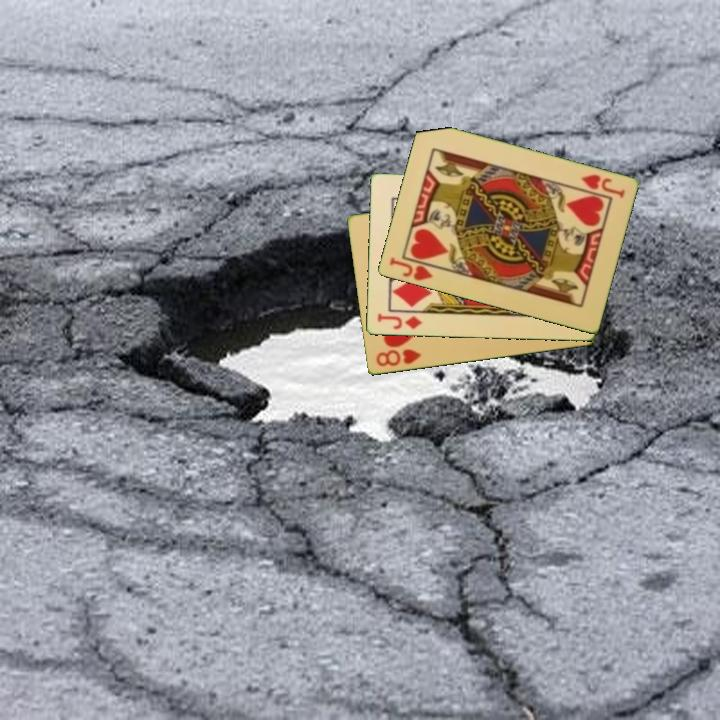8h: (372, 346, 424, 370)
Jd: (374, 311, 424, 332)
Jh: (385, 254, 435, 284), (578, 171, 627, 201)
